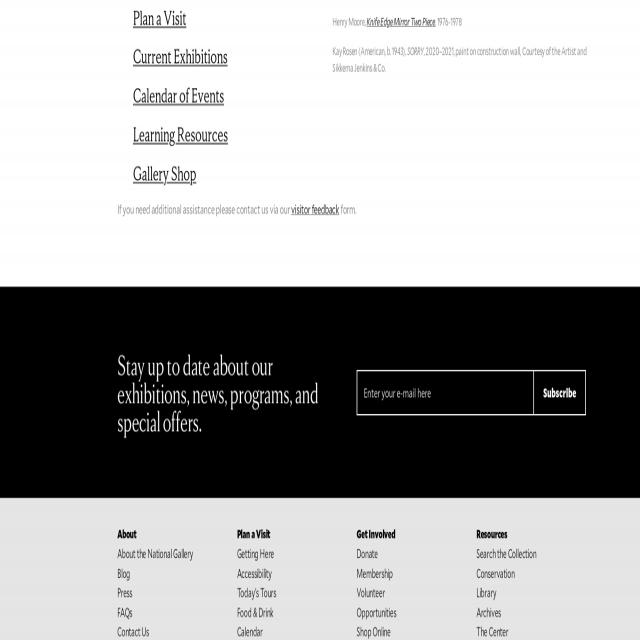button: (534, 370, 586, 416)
field: (357, 370, 534, 416)
